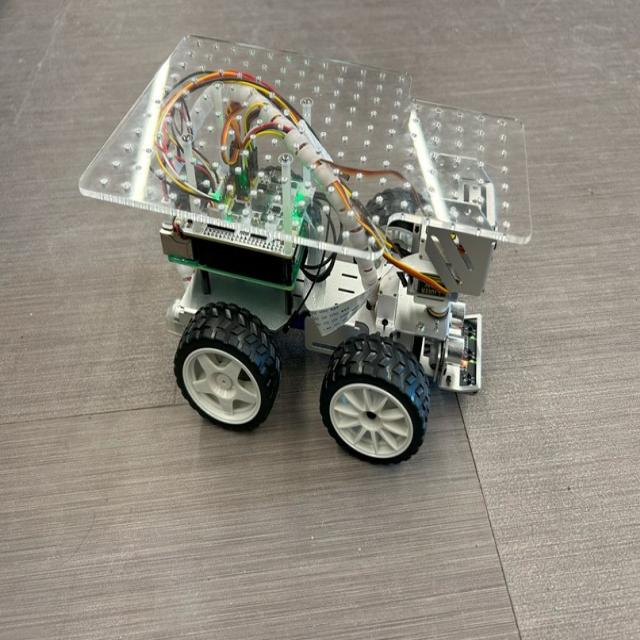vehicle: (52, 1, 573, 501)
